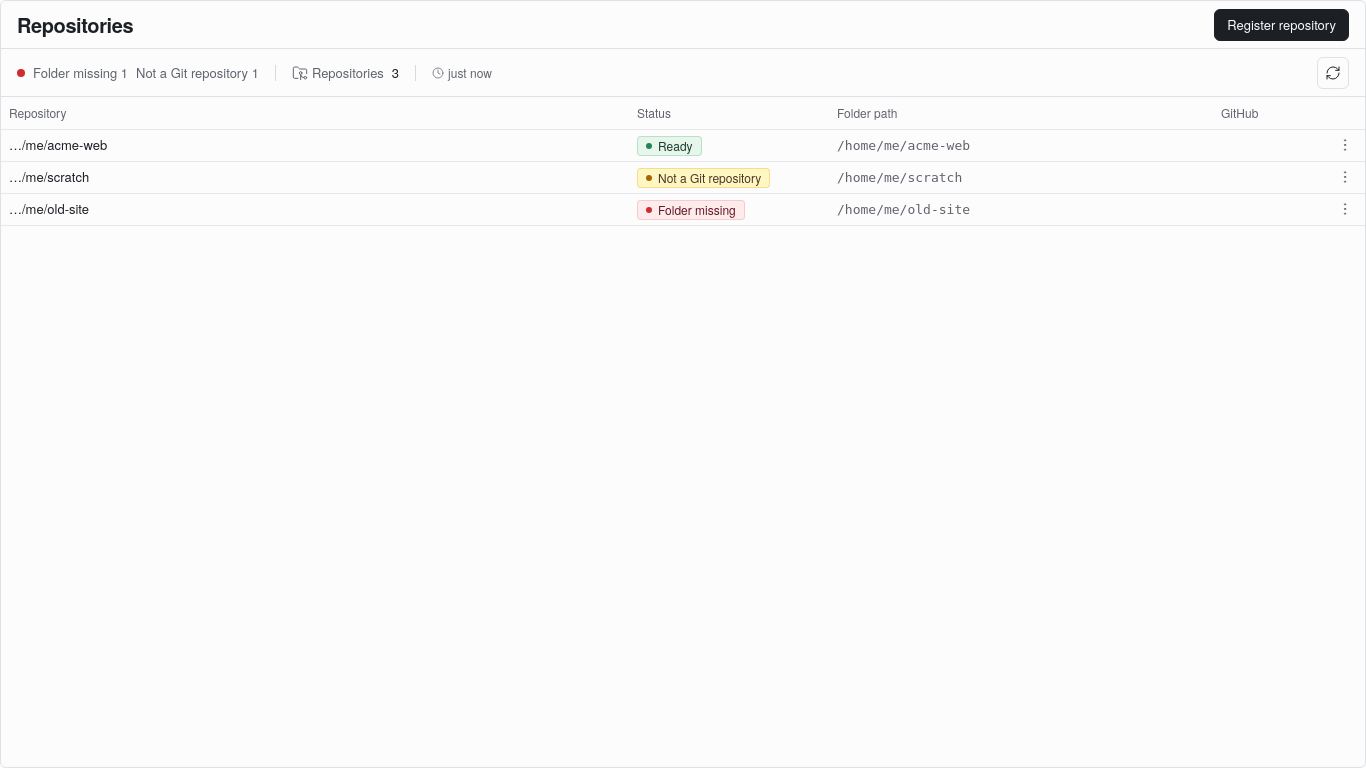
Repositories › unregisters a repo by its listed path, drops its row and says so in a toast
This screenshot has width=1366, height=768.
Click the button named "Actions for …/me/old-site" at (1345, 208), box [1333,196,1357,220]
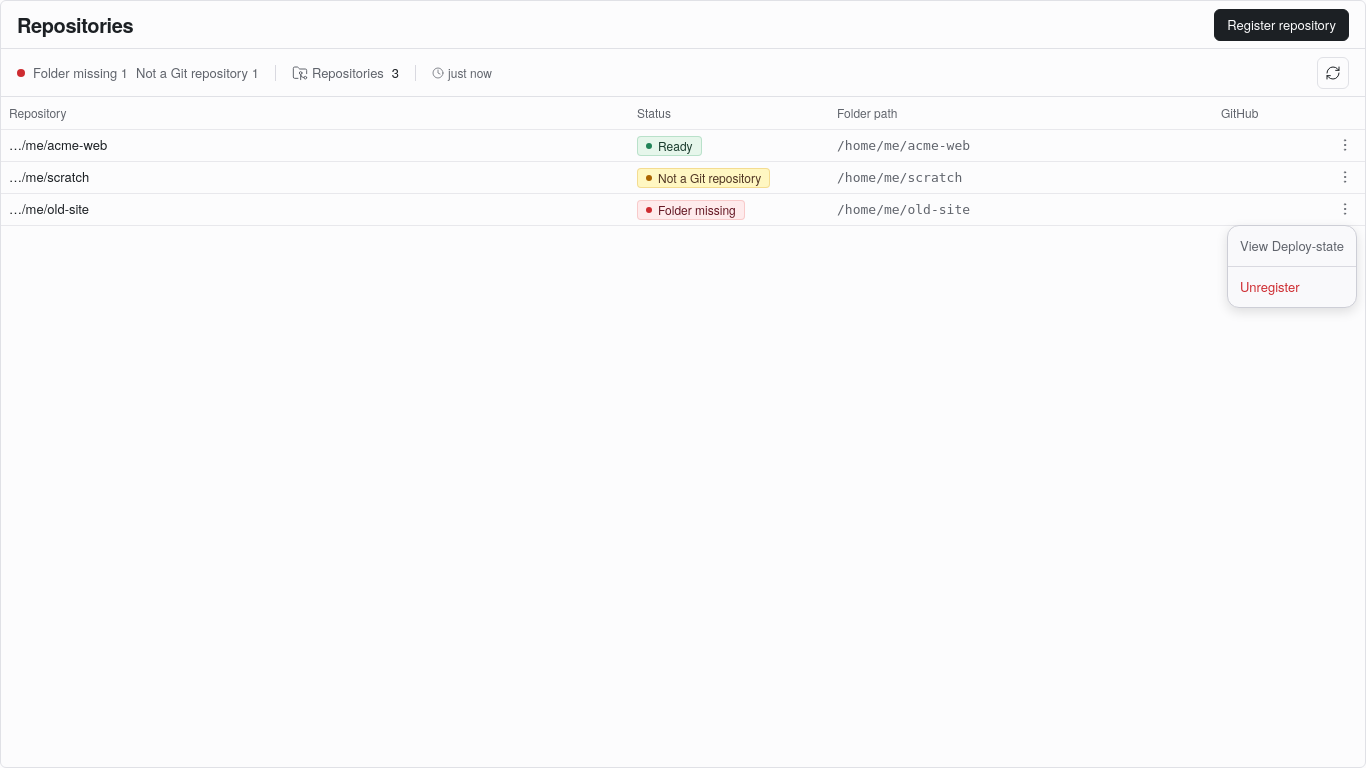
Click the menu item "Unregister" at (1270, 286), box [1240,277,1300,296]
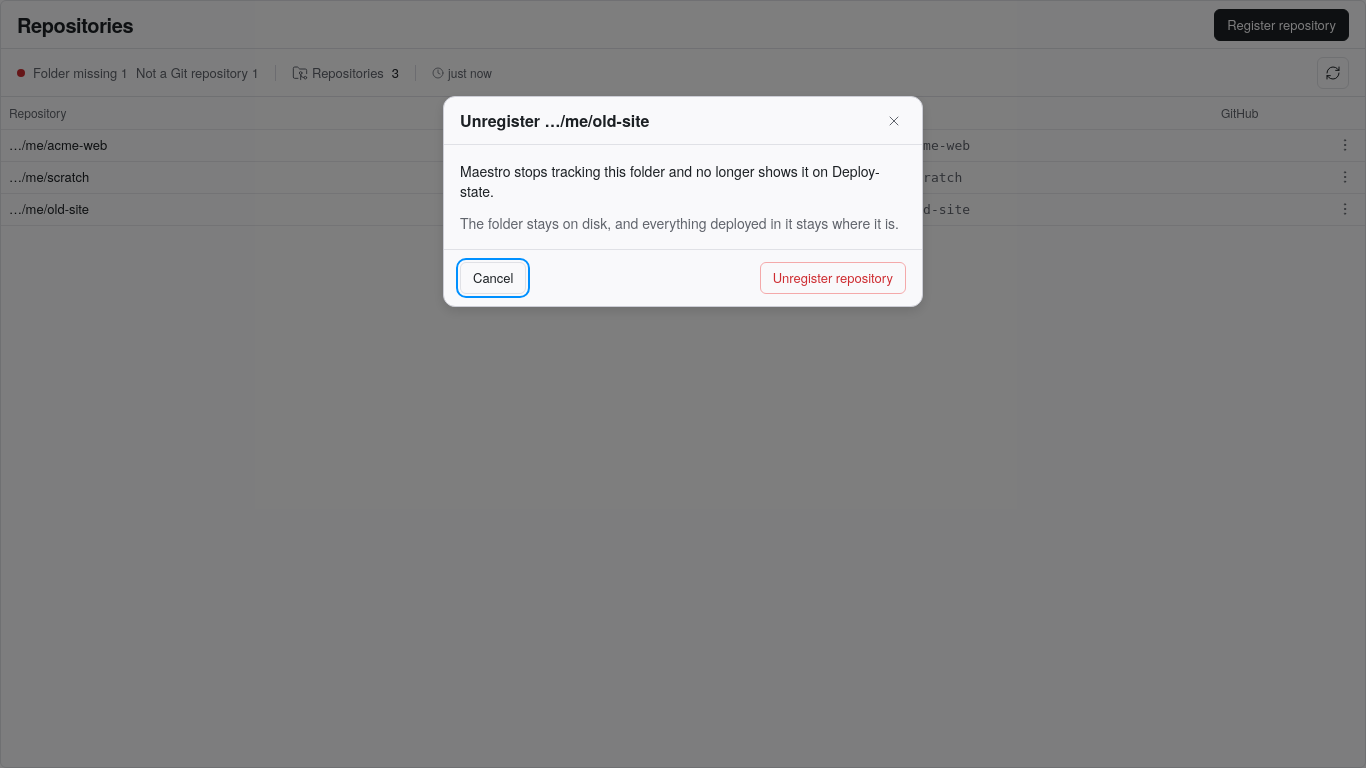
Click the button "Unregister repository" at (833, 278), box [760,262,906,294]
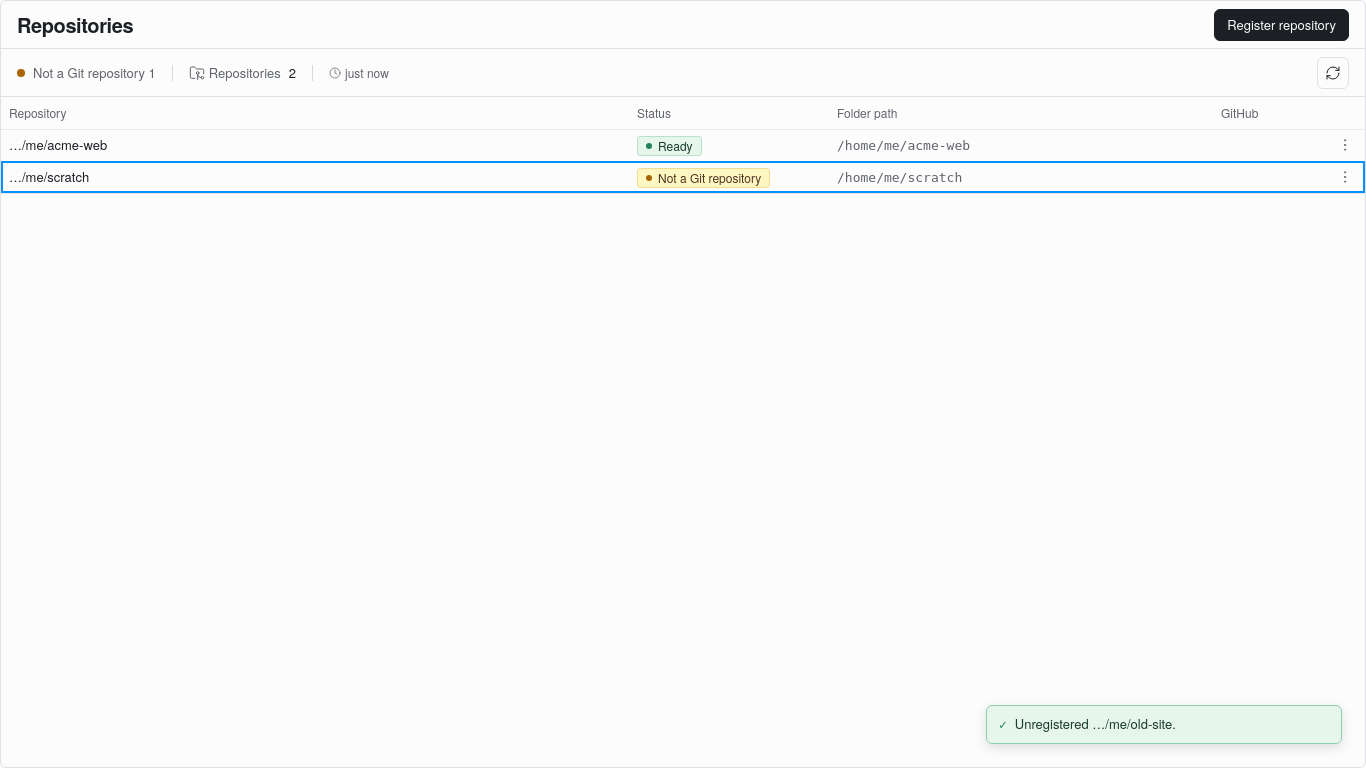
Result: the dialog is gone
Result: the text "/home/me/old-site" is gone
